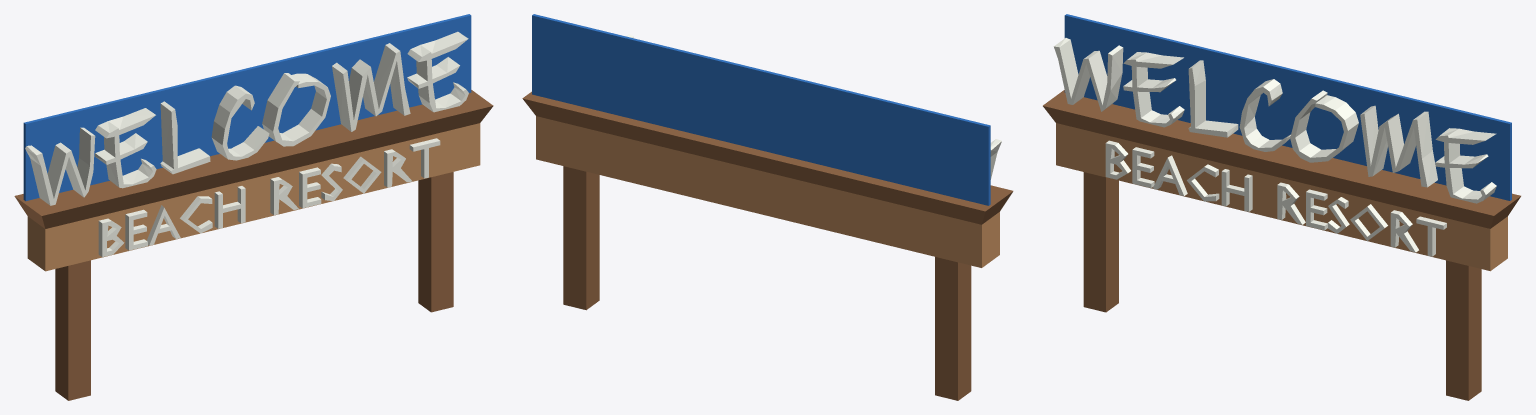
Rendered from Welcome_Sign.fbx.
3 views of the same model, side by side, from view 1: azimuth 30°, elevation 25°; view 2: azimuth 150°, elevation 25°; view 3: azimuth 330°, elevation 25° (orthographic). The views are drawn at different scales.
Parts seen in each view (by area): view 1: Welcome_Sign; view 2: Welcome_Sign; view 3: Welcome_Sign.
Boxes of the visible parts, left/top/right/bottom form: Welcome_Sign: left=14, top=14, right=493, bottom=400; Welcome_Sign: left=522, top=14, right=1013, bottom=400; Welcome_Sign: left=1043, top=14, right=1520, bottom=400.
Size of the model in its own units: 445 by 259 by 46.8.
